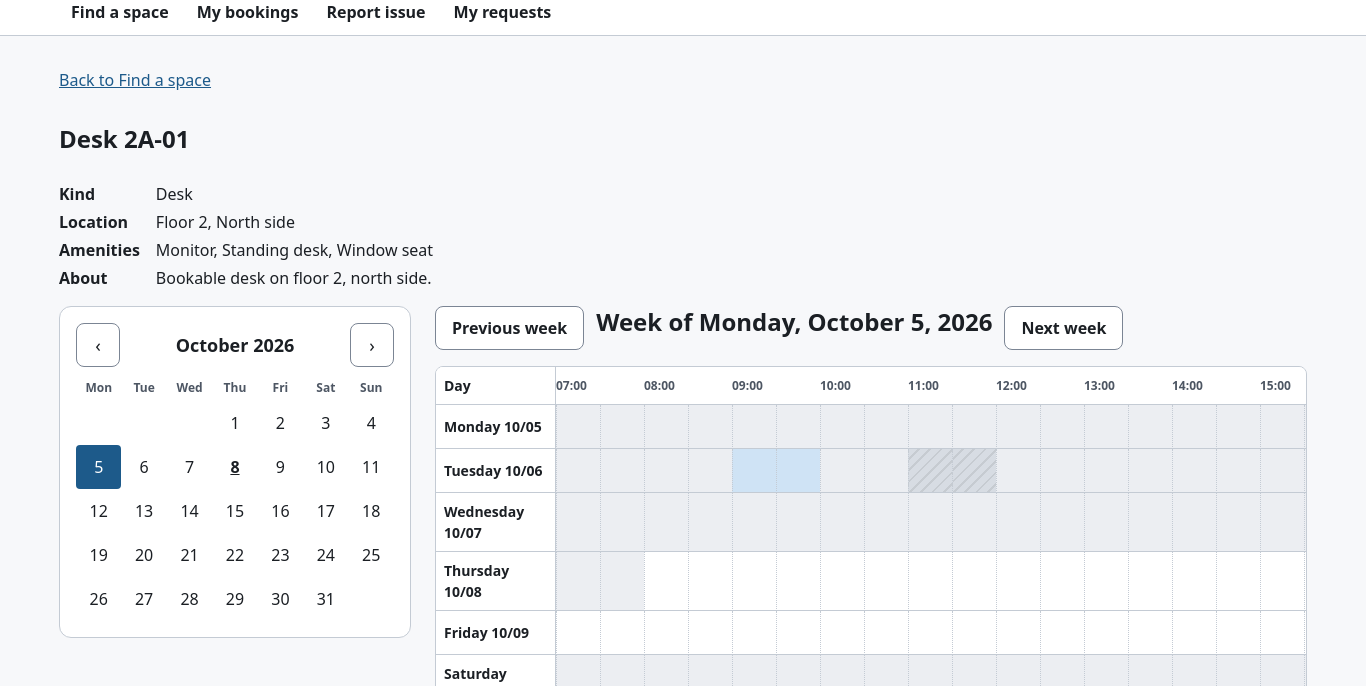
resource week calendar (SPEC 14.1) › Previous week and Next week clear a selection made in the old week
What coordinates should you click on to do the following:
click the cell named "Friday 10/09, 10:00 to 10:30, available"
I would click on:
 (842, 633)
Its box is [820,611,864,655].
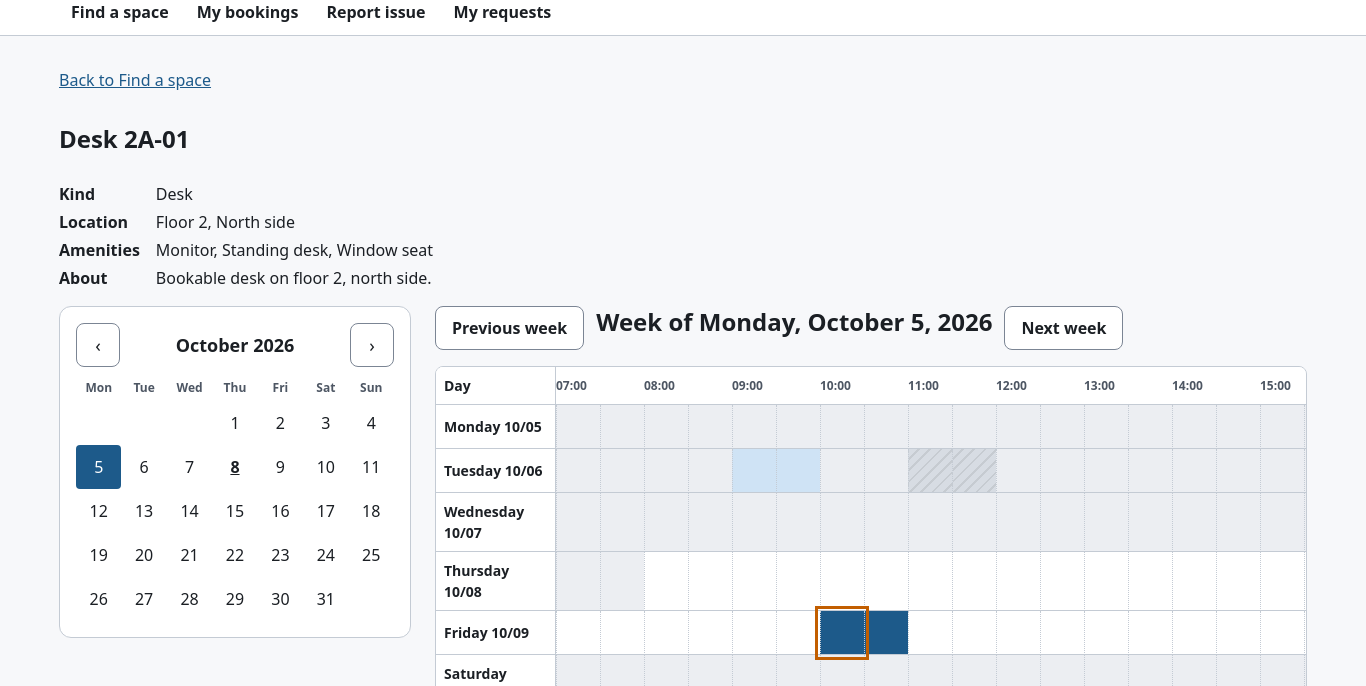
What coordinates should you click on to do the following:
click the button "Next week"
I would click on:
 (1064, 328)
Its box is [1004,306,1124,350].
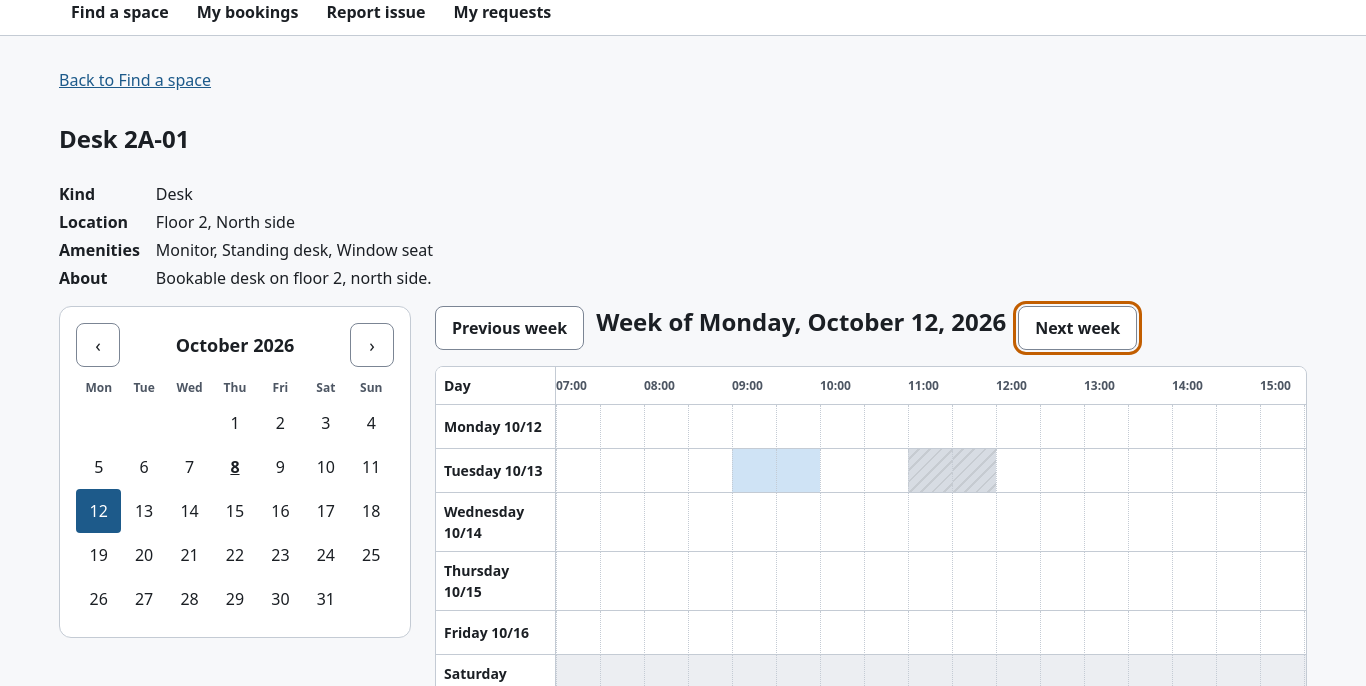
What coordinates should you click on to do the following:
click the cell named "Monday 10/12, 10:00 to 10:30, available"
I would click on:
 (842, 427)
Its box is [820,405,864,449].
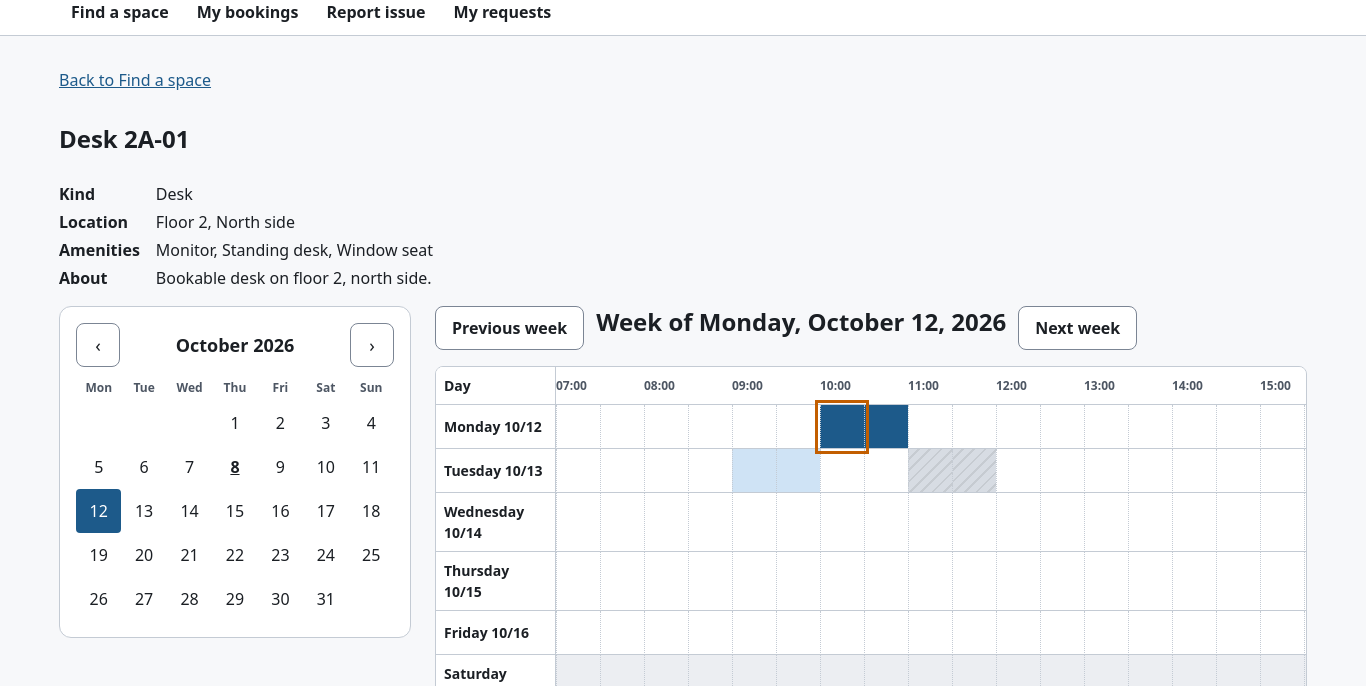
What coordinates should you click on to do the following:
click the button "Previous week"
I would click on:
 (510, 328)
Its box is [435,306,584,350].
(page scrolled)
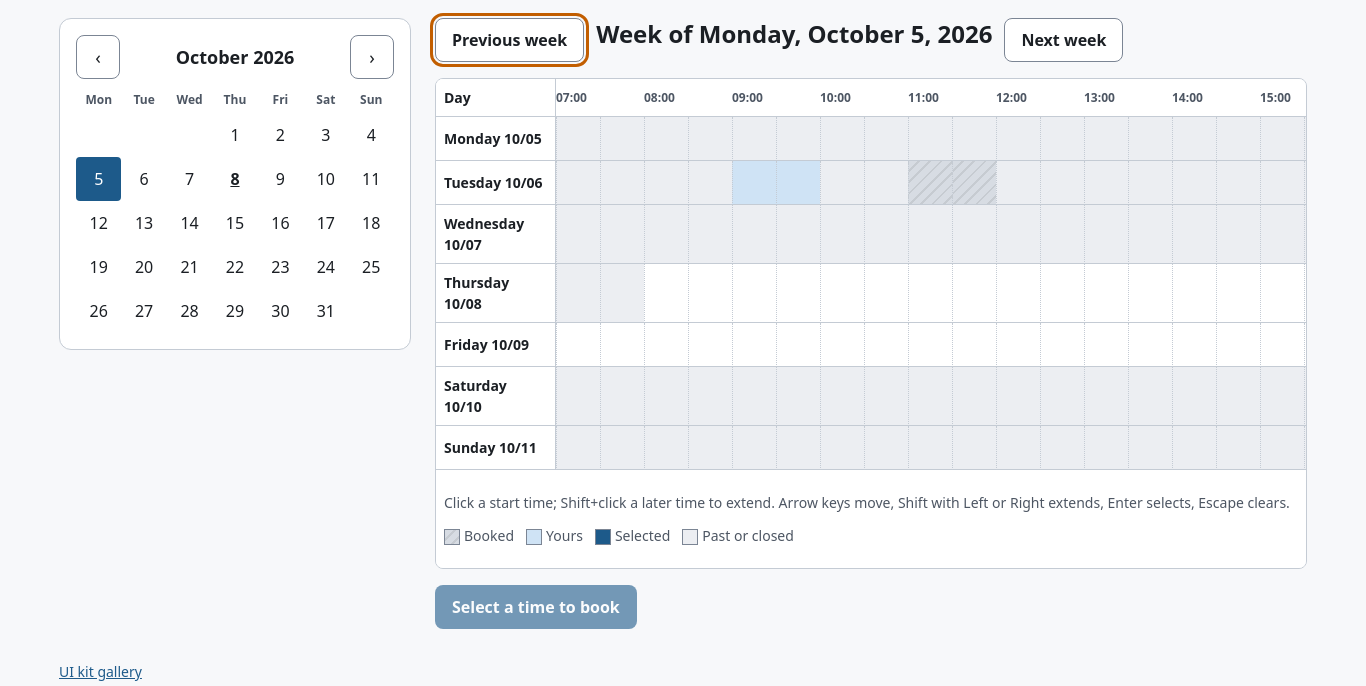
Now the table named "week of Monday, October 5, 2026" is shown, box [436,79,1307,470]
Now the button "Select a time to book" is shown, box [435,585,637,629]
